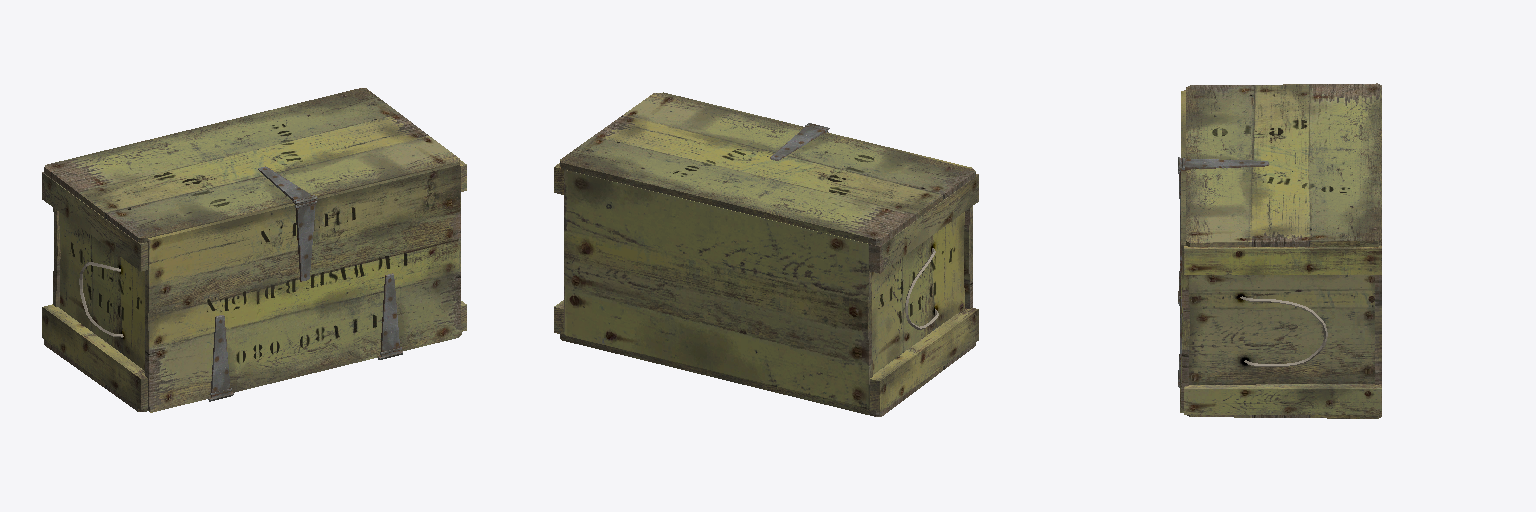
3 views of the same model, side by side, from view 1: azimuth 30°, elevation 25°; view 2: azimuth 150°, elevation 25°; view 3: azimuth 270°, elevation 25° (orthographic).
Parts seen in each view (by area): view 1: Top_1, Low_WoodCrate_1, Top_0, Low_WoodCrate_0; view 2: Low_WoodCrate_1, Top_1, Low_WoodCrate_0; view 3: Low_WoodCrate_1, Top_1, Low_WoodCrate_0.
Boxes of the visible parts, x1,y1,x2,y2 form: Top_1: [145, 163, 461, 412]; Low_WoodCrate_1: [42, 88, 466, 411]; Top_0: [210, 200, 401, 397]; Low_WoodCrate_0: [258, 166, 317, 203]; Low_WoodCrate_1: [554, 93, 978, 416]; Top_1: [662, 92, 972, 308]; Low_WoodCrate_0: [770, 123, 829, 160]; Low_WoodCrate_1: [1184, 83, 1381, 418]; Top_1: [1178, 91, 1189, 412]; Low_WoodCrate_0: [1178, 157, 1268, 170].
Bounding box in the file's own units: 67.47 × 37.04 × 36.59.
5 materials, 1 textured.